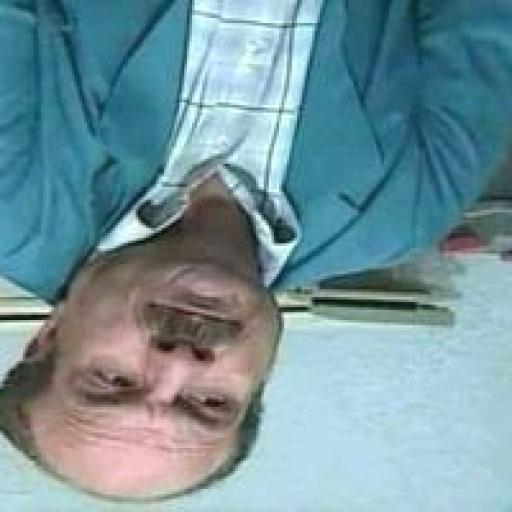beji_matrix: (18, 253, 276, 497)
